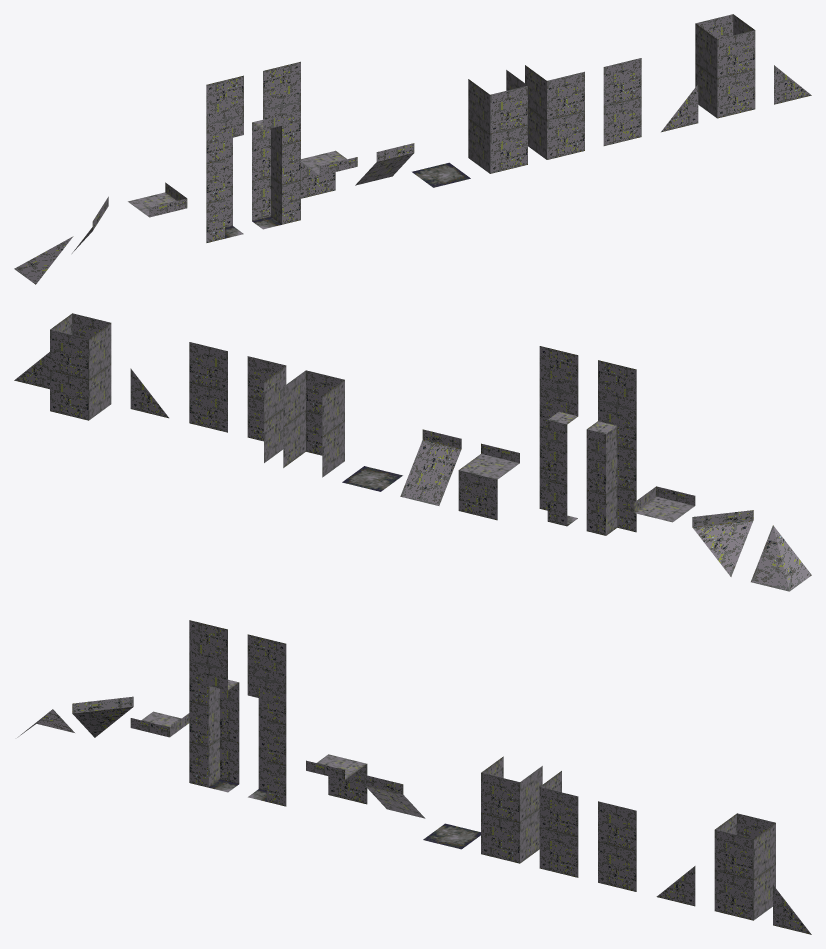
File: tileset2.glb
3 renders of one model, top to bottom at view 1: azimuth 30°, elevation 25°; view 2: azimuth 150°, elevation 25°; view 3: azimuth 330°, elevation 25°, orthographic. The views are drawn at different scales.
Parts seen in each view (by area): view 1: door2-col.001, wall2-col.001, wall2-col.003, door2-col, wall2-col.002, wall2-col.008, floor-col.004, wall1-col.002, floor-col.001, wall1-col.003, floor-col, corner1-col.001 (+1 smaller); view 2: door2-col, wall2-col.001, door2-col.001, wall2-col.003, wall2-col.002, wall2-col.008, floor-col.004, wall1-col.002, wall1-col, wall1-col.003, floor-col.001, floor-col (+2 smaller); view 3: door2-col, wall2-col.001, door2-col.001, wall2-col.003, wall2-col.002, wall2-col.008, floor-col.004, wall1-col, wall1-col.002, floor-col.001, floor-col, corner1-col.001 (+1 smaller).
Part boxes in pixels (x1=…): door2-col.001: x1=252, y1=61, x2=300, y2=229; wall2-col.001: x1=695, y1=14, x2=755, y2=118; wall2-col.003: x1=468, y1=70, x2=527, y2=173; door2-col: x1=206, y1=75, x2=243, y2=242; wall2-col.002: x1=525, y1=65, x2=584, y2=159; wall2-col.008: x1=603, y1=58, x2=641, y2=145; floor-col.004: x1=301, y1=150, x2=357, y2=198; wall1-col.002: x1=355, y1=143, x2=414, y2=185; floor-col.001: x1=128, y1=182, x2=187, y2=217; wall1-col.003: x1=14, y1=236, x2=73, y2=284; floor-col: x1=412, y1=162, x2=470, y2=187; corner1-col.001: x1=661, y1=84, x2=698, y2=132; door2-col: x1=586, y1=360, x2=636, y2=535; wall2-col.001: x1=50, y1=313, x2=111, y2=420; door2-col.001: x1=539, y1=346, x2=578, y2=526; wall2-col.003: x1=283, y1=370, x2=344, y2=477; wall2-col.002: x1=247, y1=356, x2=286, y2=462; wall2-col.008: x1=189, y1=342, x2=227, y2=432; floor-col.004: x1=458, y1=443, x2=519, y2=520; wall1-col.002: x1=400, y1=429, x2=461, y2=505; wall1-col: x1=692, y1=510, x2=753, y2=576; wall1-col.003: x1=751, y1=525, x2=811, y2=591; floor-col.001: x1=633, y1=486, x2=695, y2=522; floor-col: x1=342, y1=466, x2=402, y2=491; door2-col: x1=189, y1=620, x2=239, y2=792; wall2-col.001: x1=714, y1=813, x2=775, y2=920; door2-col.001: x1=247, y1=634, x2=286, y2=806; wall2-col.003: x1=481, y1=756, x2=542, y2=863; wall2-col.002: x1=539, y1=771, x2=578, y2=877; wall2-col.008: x1=598, y1=801, x2=636, y2=891; floor-col.004: x1=306, y1=754, x2=367, y2=804; wall1-col: x1=72, y1=696, x2=133, y2=737; wall1-col.002: x1=364, y1=775, x2=425, y2=818; floor-col.001: x1=130, y1=711, x2=189, y2=737; floor-col: x1=423, y1=823, x2=480, y2=849; corner1-col.001: x1=656, y1=866, x2=695, y2=906.
Bounding box in the file's own units: 41 × 8 × 2.
Materials: 1 (1 with a texture image).
